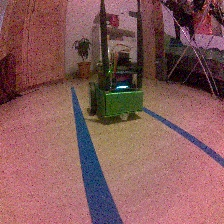rob: (87, 51, 144, 121)
